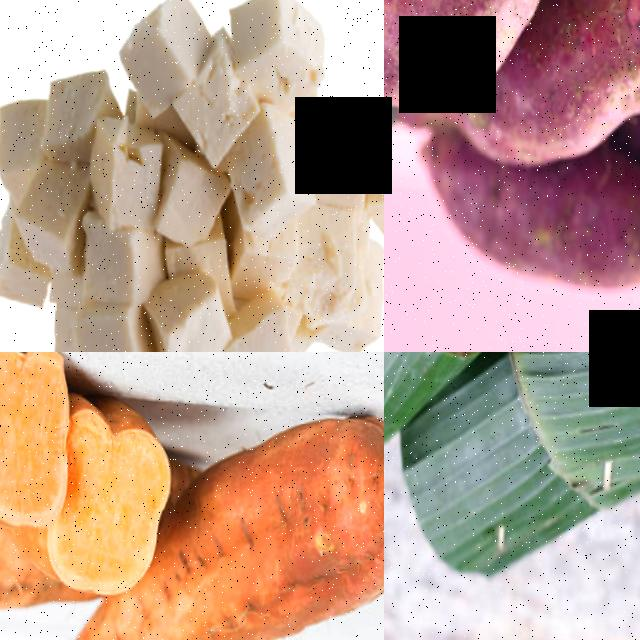sweet potato: (165, 401, 384, 640), (410, 146, 640, 300), (61, 397, 174, 602), (384, 0, 554, 122), (539, 0, 640, 169), (0, 352, 65, 528)
tofu: (229, 100, 313, 237), (222, 0, 329, 106), (115, 0, 198, 111), (316, 223, 384, 352), (85, 117, 160, 231), (11, 152, 82, 269), (155, 136, 224, 247), (143, 263, 227, 352), (35, 75, 98, 159), (221, 285, 297, 352), (67, 300, 143, 352), (358, 123, 384, 237), (0, 250, 41, 307)
